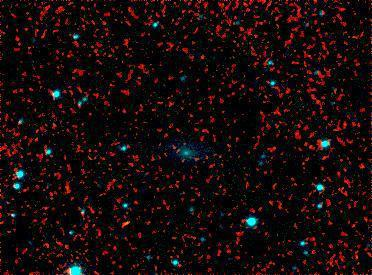star: (118, 209, 148, 239)
